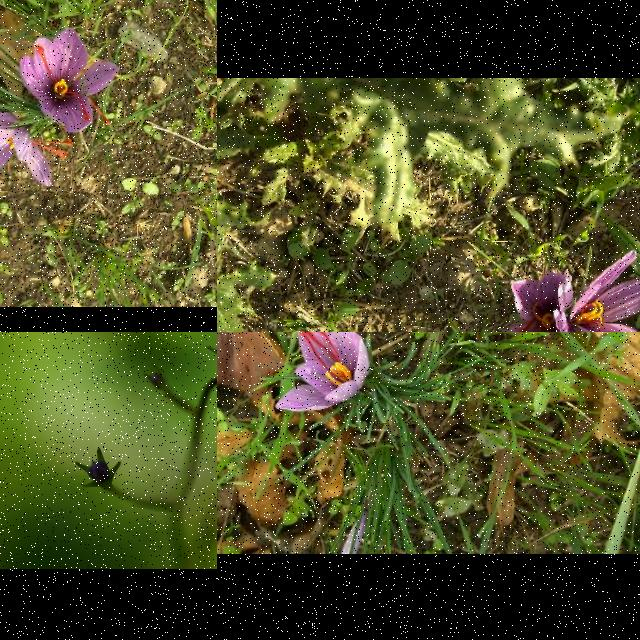flower: (21, 27, 121, 133), (276, 332, 370, 412), (0, 109, 74, 186)
overlap: (493, 250, 640, 332)
